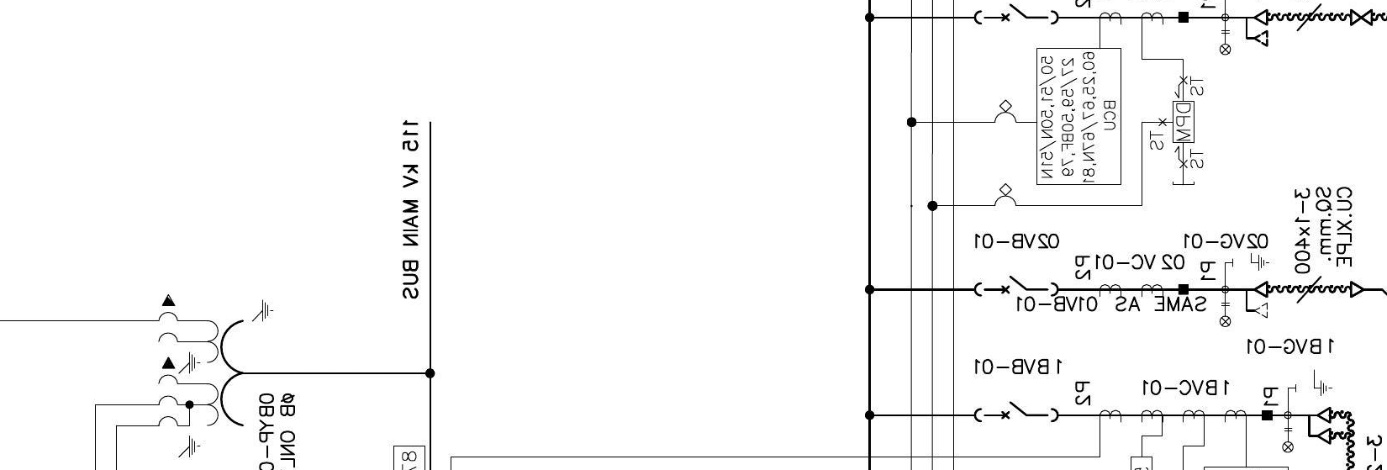115_vt_1p: (157, 293, 274, 458)
22_breaker: (973, 401, 1060, 424), (974, 3, 1060, 26), (973, 275, 1059, 297)
22_gs: (1294, 369, 1332, 397), (1231, 251, 1270, 272)
22_ll: (1219, 30, 1232, 56), (1219, 302, 1232, 328), (1282, 427, 1294, 453)
DPM: (1172, 100, 1196, 144)
terminator_double: (1307, 406, 1332, 445)
terminator_single: (1349, 280, 1365, 299)
terminator_splicing_kits: (1350, 9, 1373, 26)
terminator_w_future: (1244, 8, 1269, 48), (1245, 280, 1269, 320)
